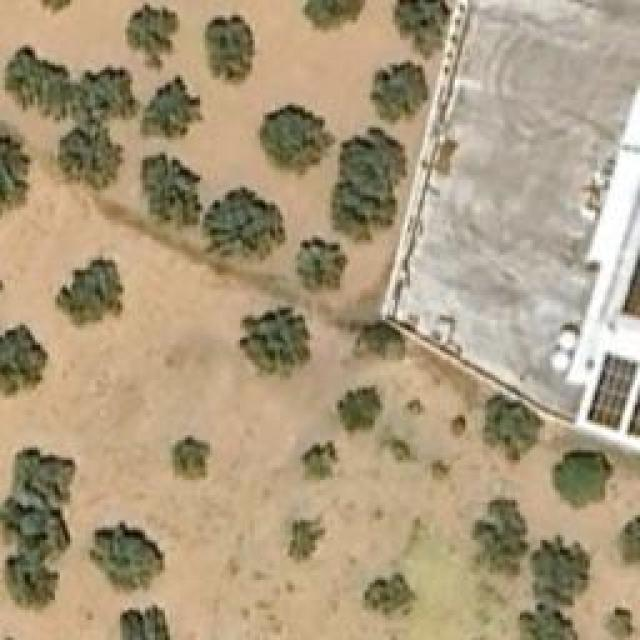Tree: (330, 127, 408, 245), (203, 190, 286, 263), (260, 103, 335, 176), (240, 305, 313, 380), (90, 520, 165, 593), (58, 250, 123, 325), (143, 153, 203, 228), (55, 120, 123, 185), (138, 75, 201, 145), (2, 50, 70, 113), (483, 395, 543, 465), (530, 538, 590, 608), (203, 13, 256, 88), (7, 447, 75, 505), (553, 448, 613, 513), (473, 502, 528, 570), (0, 323, 48, 396), (370, 63, 428, 123), (128, 5, 181, 70), (392, 0, 450, 58), (73, 65, 136, 118), (295, 235, 350, 288), (328, 385, 383, 438), (3, 513, 68, 556), (0, 132, 32, 207), (5, 560, 55, 608), (518, 603, 580, 640), (300, 0, 365, 32), (170, 435, 213, 483), (118, 605, 178, 638), (350, 323, 405, 358), (362, 575, 410, 615), (288, 518, 323, 561), (300, 440, 338, 478), (602, 603, 635, 638), (622, 518, 640, 563), (450, 413, 468, 438)
